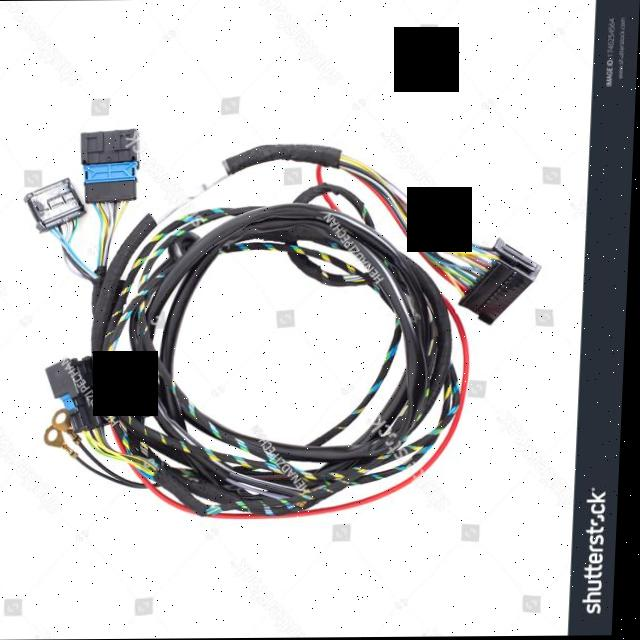connector: (451, 232, 550, 334), (46, 347, 122, 441), (81, 125, 143, 205), (23, 170, 92, 237)
